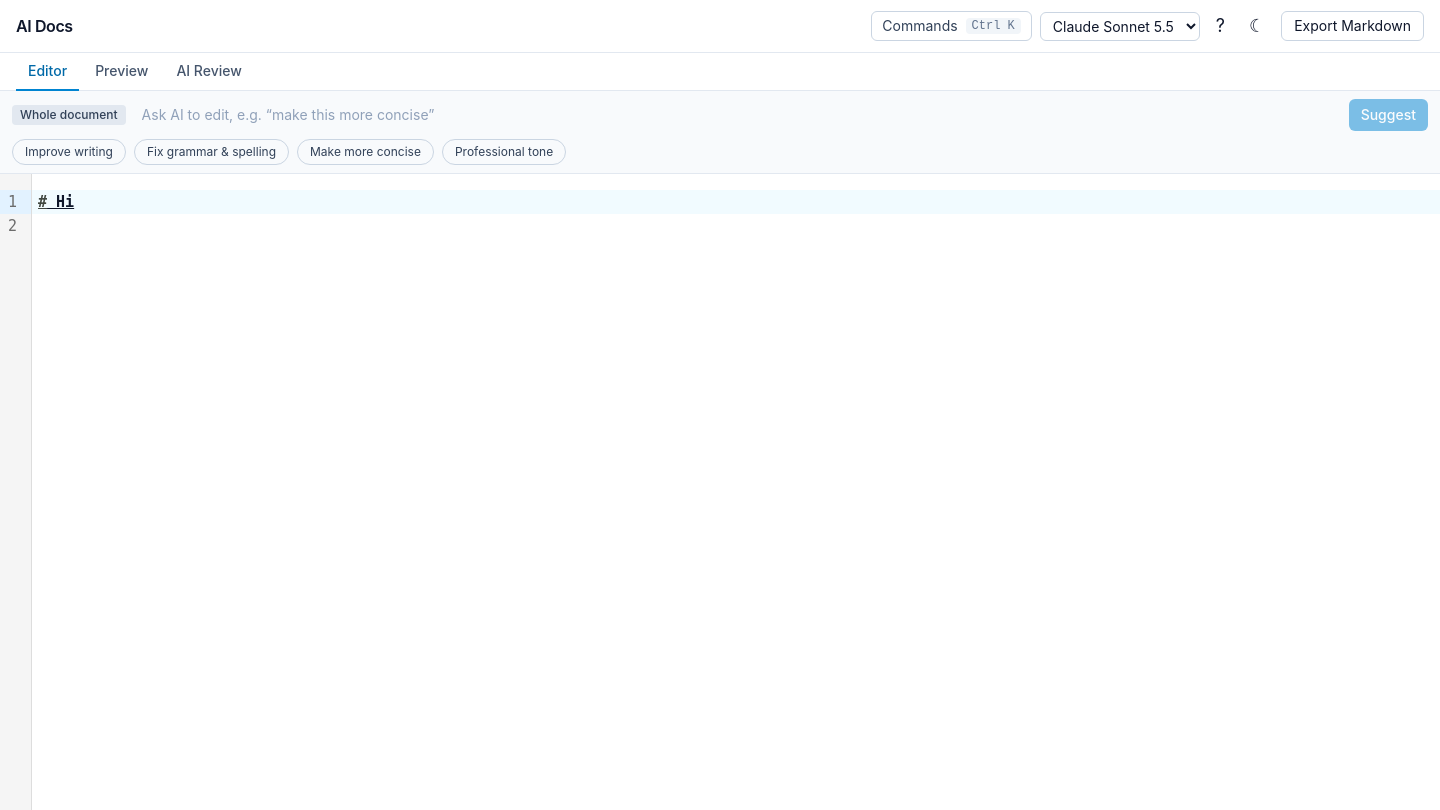
Test case: App version history › labels AI versions with the model label from the catalog
Click the tab "AI Review". click: (209, 72)
box: [164,53,254,91]
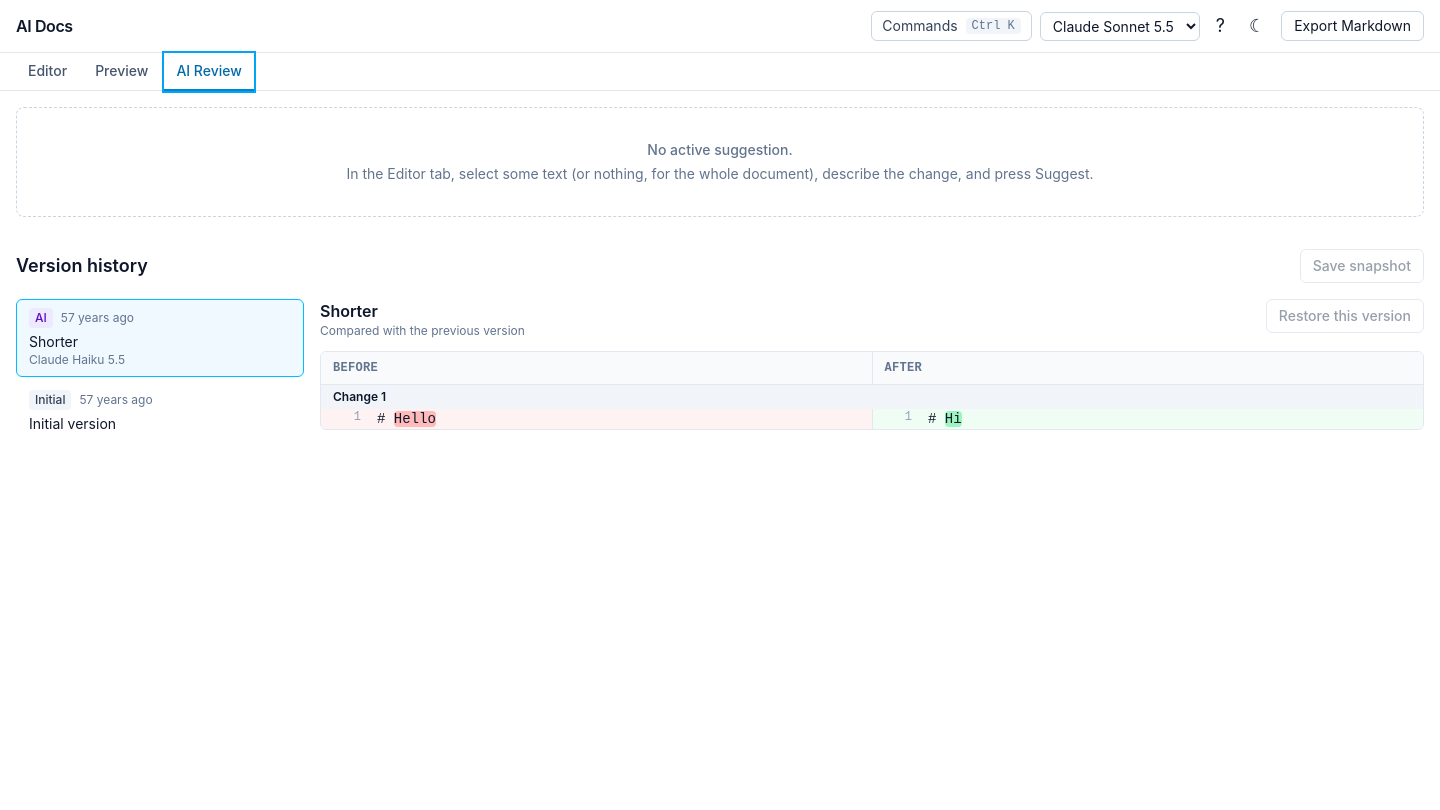
Expected: the text "Claude Haiku 5.5" is shown, [29,352,125,367]
